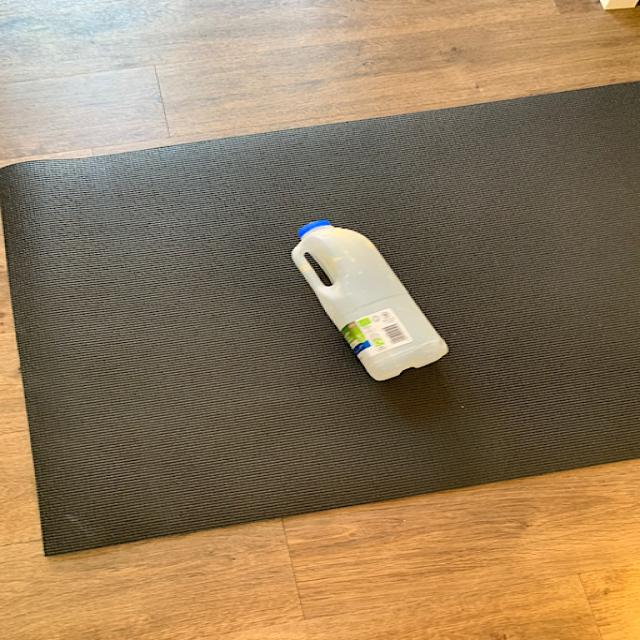litter: (285, 217, 454, 385)
